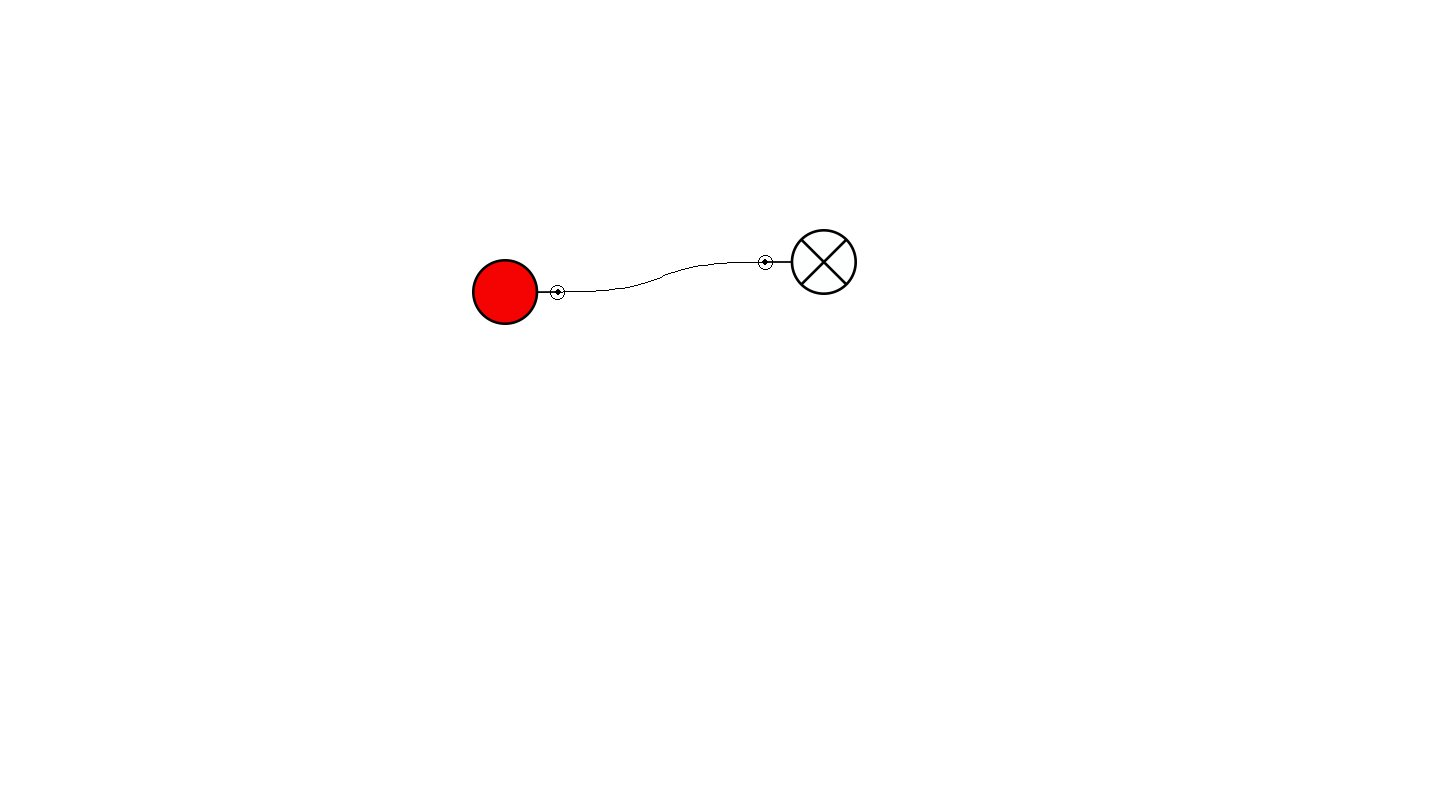bulb: (758, 229, 857, 295)
switch_False: (472, 259, 565, 325)
